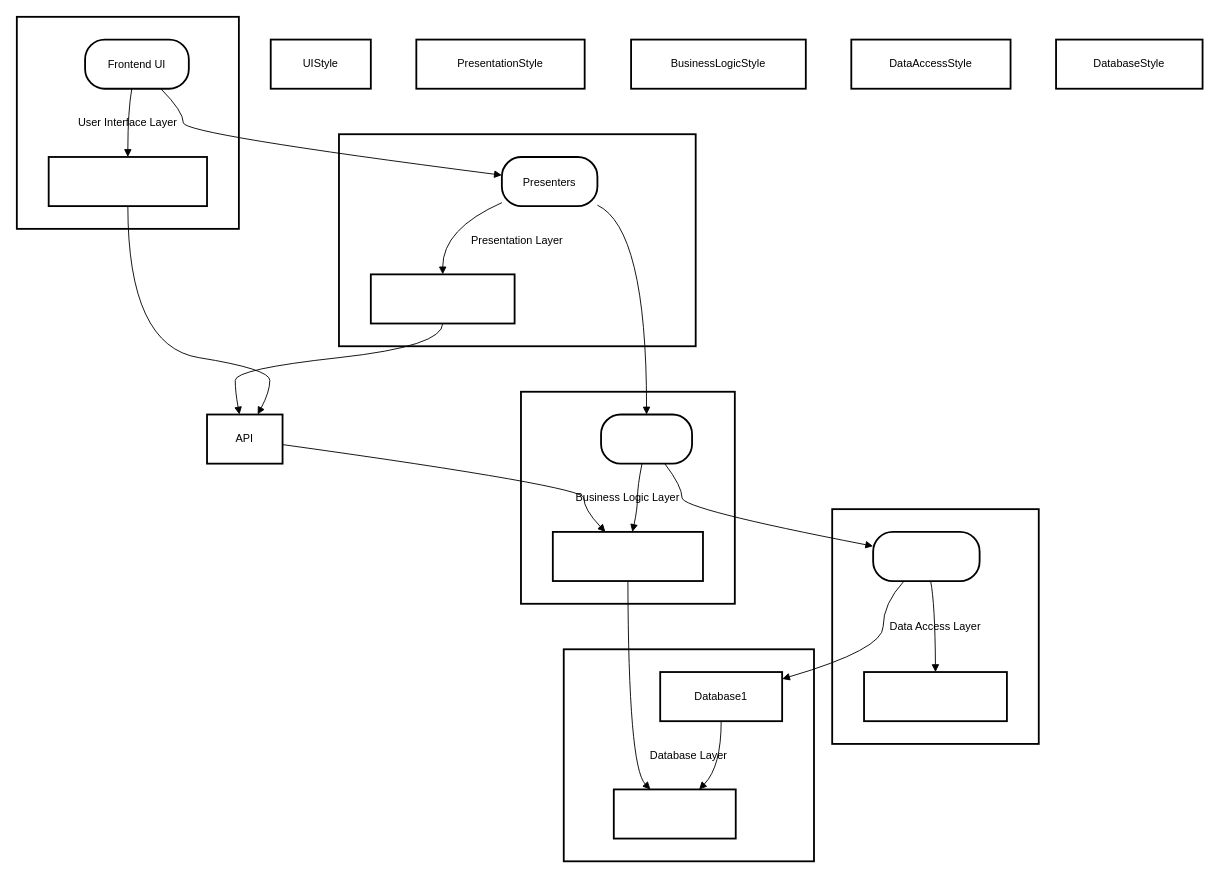
The diagram is 1218 pixels wide and 877 high, and some of its shapes have lost their labels. The centre of each missing label's shape, as x and y in pixels:
BusinessLogic2: (x=627, y=556)
Data_Access2: (x=935, y=696)
Database2: (x=674, y=813)
Presentation2: (x=442, y=298)
Repositories: (x=926, y=556)
Use Cases: (x=646, y=438)
User_Interface2: (x=127, y=181)
